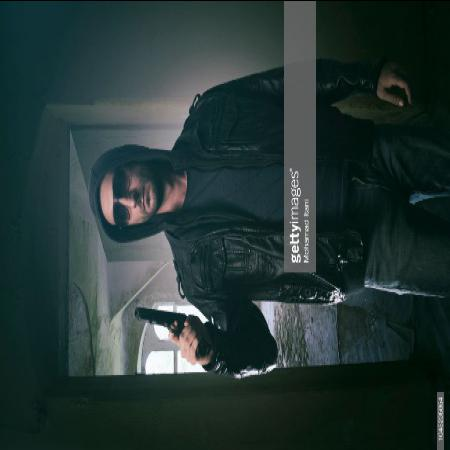Pistol: (130, 304, 188, 338)
